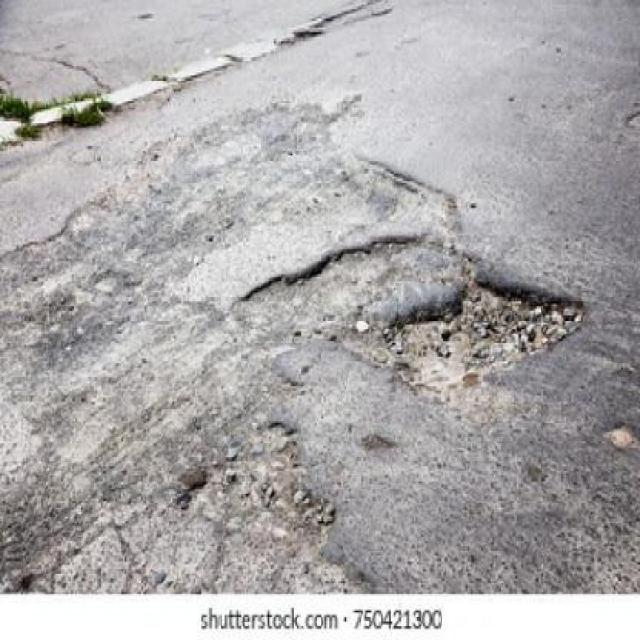Buraco: (213, 231, 596, 410)
